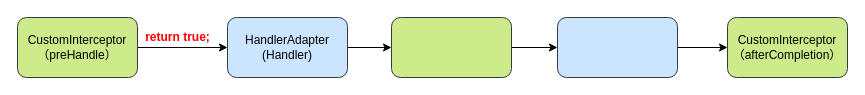
Image size: 865x95. Some labels were removed from this diagram. The centre of each missing label's shape, as x and y in pixels:
CustomInterceptor （postHandle）: point 451,47
DispatcherServlet (render): point 617,47
